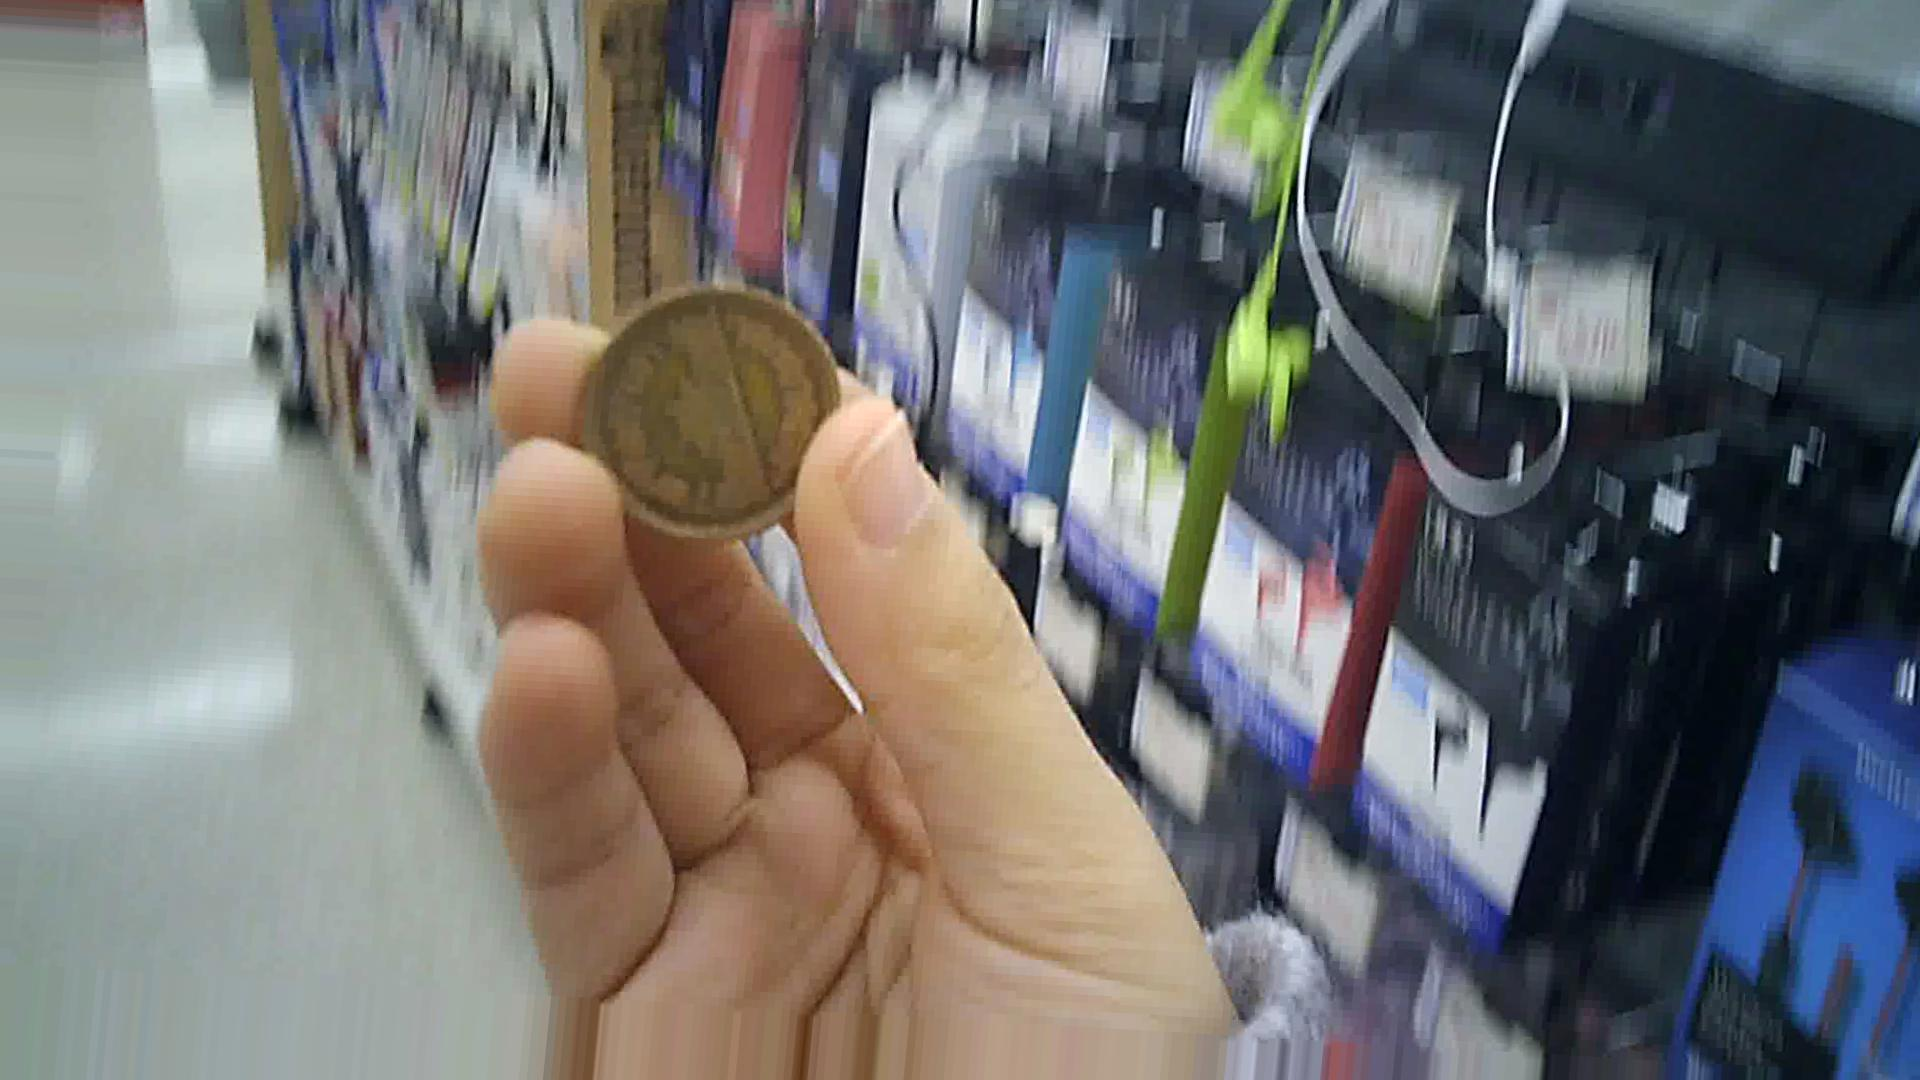10 Yen: (553, 280, 832, 537)
